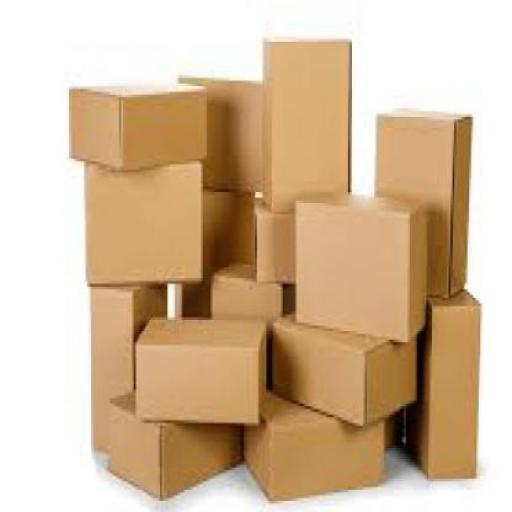cardboard: (296, 194, 430, 338), (376, 108, 472, 298), (136, 186, 255, 332), (393, 287, 482, 479), (274, 312, 419, 428), (245, 389, 386, 498), (87, 156, 205, 284), (137, 312, 270, 425), (265, 38, 353, 208), (108, 390, 244, 496), (93, 278, 172, 454), (70, 80, 211, 166), (181, 75, 265, 192), (214, 262, 283, 323), (256, 195, 298, 281)
